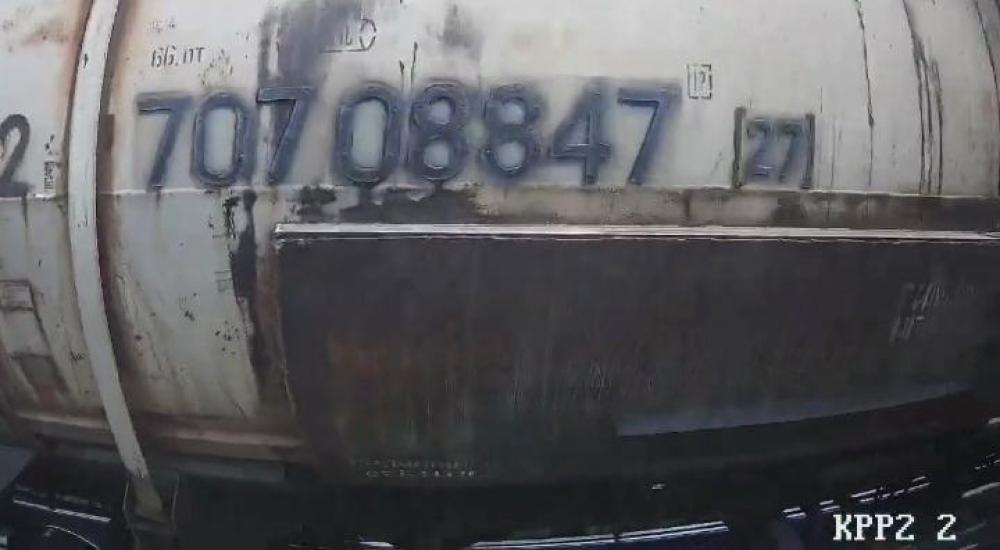Wagon-number: (125, 79, 680, 191)
